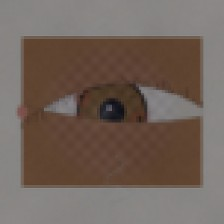foreign_body_visible: (62, 110, 94, 135)
